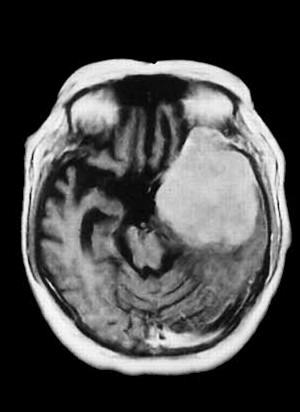Tumour-Meningioma: (144, 124, 269, 297)
